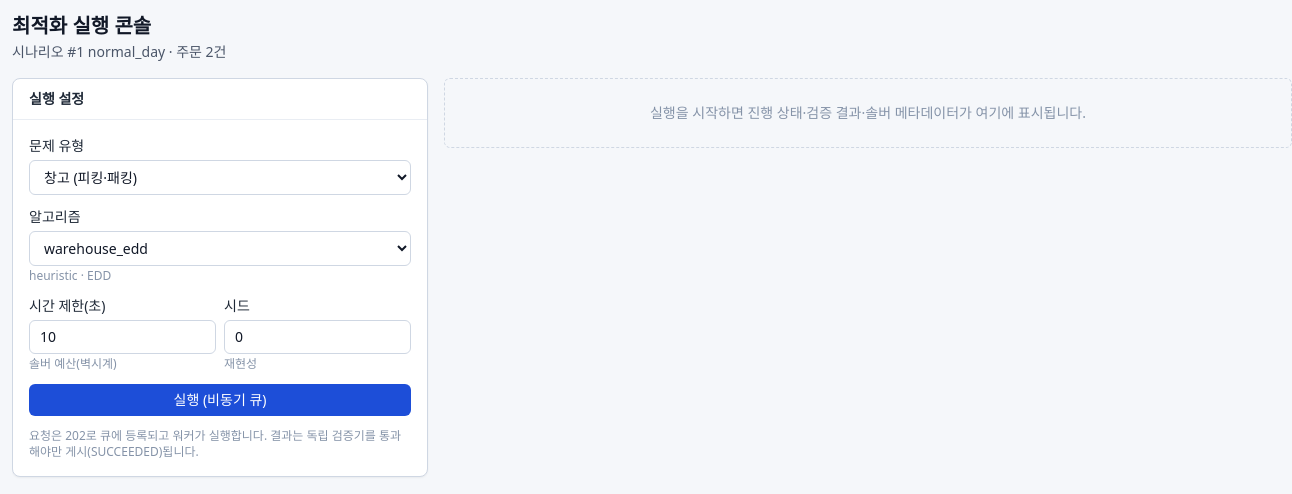
it: Optimize console enqueues a run and shows the validated result
Click the button "실행 (비동기 큐)" at [220, 400], box [29,384,411,416]
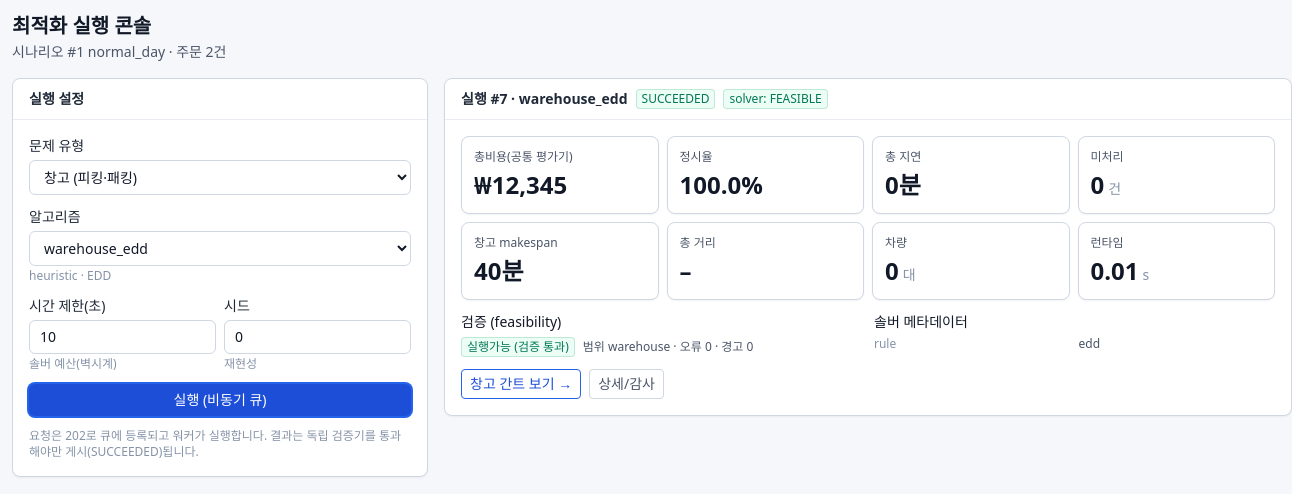
Expected: the text "실행가능 (검증 통과)" is shown, [461,337,575,357]
Expected: the text "₩12,345" is shown, [474,168,567,201]
